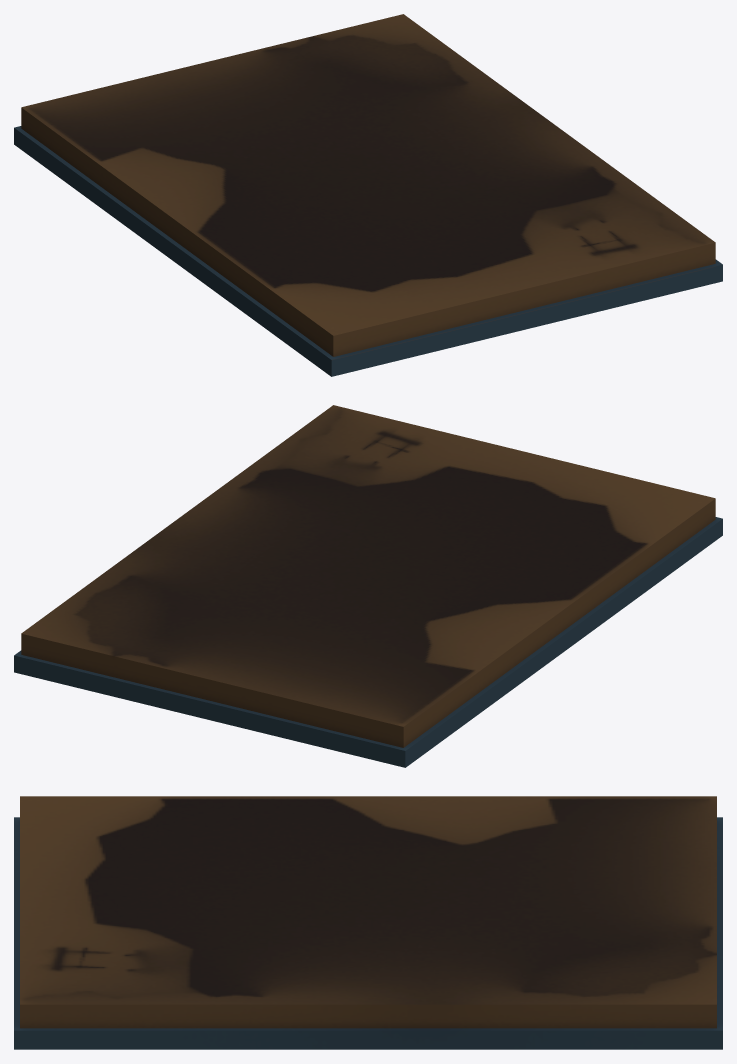
Rendered from Ground_02.FBX.
3 renders of one model, top to bottom at view 1: azimuth 30°, elevation 25°; view 2: azimuth 150°, elevation 25°; view 3: azimuth 270°, elevation 25°, orthographic. The views are drawn at different scales.
Parts seen in each view (by area): view 1: Ground_02; view 2: Ground_02; view 3: Ground_02.
Boxes of the visible parts, box(x1,y1,x2,y2) form: Ground_02: box(14, 14, 722, 376); Ground_02: box(14, 405, 722, 767); Ground_02: box(14, 796, 722, 1049).
Bounding box in the file's own units: 18.26 × 1.69 × 25.65.
